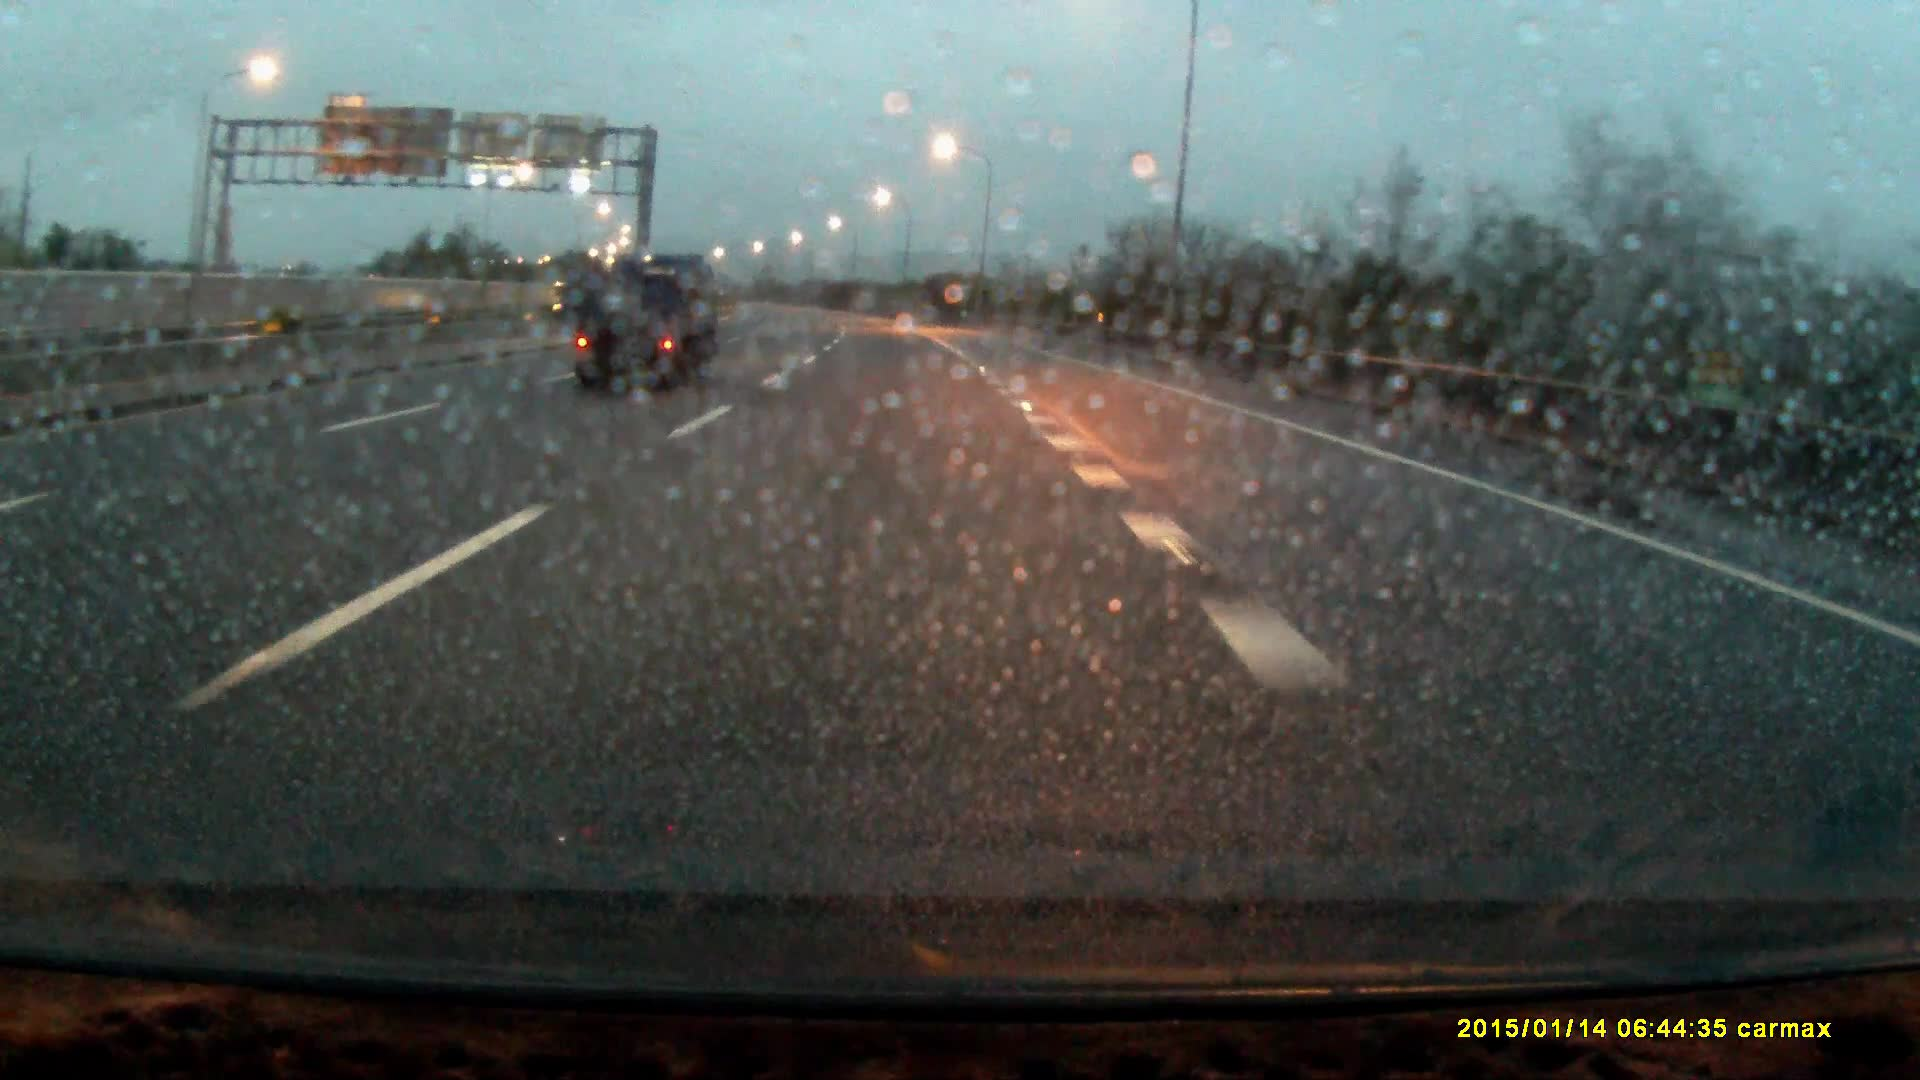vehicle: (567, 253, 721, 388)
